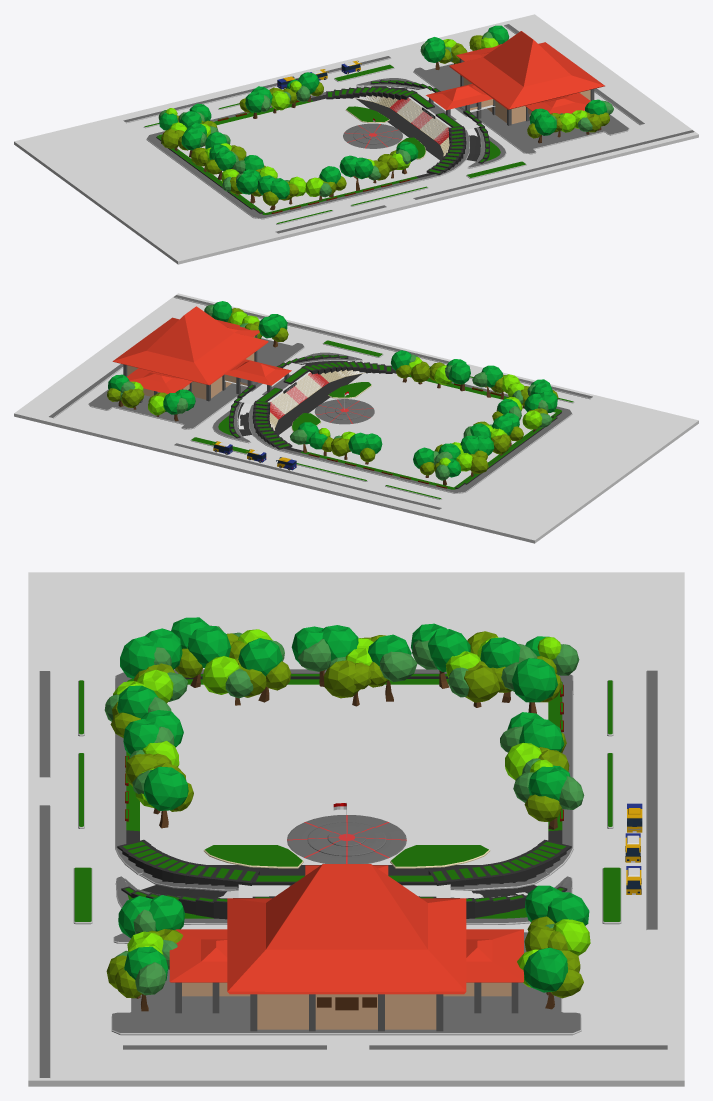
Rendered from GSP.fbx.
3 views of the same model, one above another, from view 1: azimuth 30°, elevation 25°; view 2: azimuth 150°, elevation 25°; view 3: azimuth 270°, elevation 25° (orthographic). The views are drawn at different scales.
Parts seen in each view (by area): view 1: C_ground, Cube, trotoar.004, trotoar.003, Cube.002, Plane.001, C_tangga, Plane, Cube.001, Circle, jalan gsp, trotoar.010 (+6 smaller); view 2: C_ground, Cube, trotoar.004, trotoar.003, Cube.002, Plane.001, C_tangga, Plane, Cube.001, Circle, jalan gsp, trotoar.010 (+5 smaller); view 3: C_ground, Cube, trotoar.004, Cube.002, trotoar.003, Circle, trotoar.005, trotoar.010, trotoar.009, Plane.001, Cube.003, jalan gsp (+31 smaller).
Boxes of the visible parts, bbox=[...] form: C_ground: bbox=[14, 14, 698, 264]; Cube: bbox=[449, 31, 604, 131]; trotoar.004: bbox=[413, 63, 629, 154]; trotoar.003: bbox=[146, 78, 506, 219]; Cube.002: bbox=[326, 86, 466, 174]; Plane.001: bbox=[157, 94, 443, 214]; C_tangga: bbox=[354, 88, 495, 155]; Plane: bbox=[353, 95, 449, 156]; Cube.001: bbox=[426, 84, 493, 118]; Circle: bbox=[343, 123, 402, 148]; jalan gsp: bbox=[363, 83, 485, 166]; trotoar.010: bbox=[413, 130, 694, 199]; C_ground: bbox=[14, 293, 698, 543]; Cube: bbox=[112, 306, 268, 402]; trotoar.004: bbox=[88, 338, 304, 429]; trotoar.003: bbox=[212, 352, 572, 493]; Cube.002: bbox=[252, 361, 392, 449]; Plane.001: bbox=[275, 369, 561, 489]; C_tangga: bbox=[225, 363, 364, 430]; Plane: bbox=[269, 369, 365, 430]; Cube.001: bbox=[224, 359, 291, 394]; Circle: bbox=[314, 399, 374, 424]; jalan gsp: bbox=[233, 358, 359, 439]; trotoar.010: bbox=[173, 295, 449, 364]; C_ground: bbox=[28, 572, 684, 1086]; Cube: bbox=[169, 864, 523, 1031]; trotoar.004: bbox=[111, 932, 581, 1035]; Cube.002: bbox=[117, 839, 571, 887]; trotoar.003: bbox=[115, 669, 573, 924]; Circle: bbox=[287, 815, 406, 863]; trotoar.005: bbox=[203, 845, 490, 868]; trotoar.010: bbox=[39, 805, 50, 1078]; trotoar.009: bbox=[646, 670, 657, 929]; Plane.001: bbox=[126, 678, 562, 874]; Cube.003: bbox=[121, 886, 567, 919]; jalan gsp: bbox=[125, 872, 562, 898].
Size of the model in its own units: 35068 by 4601 by 19141.
